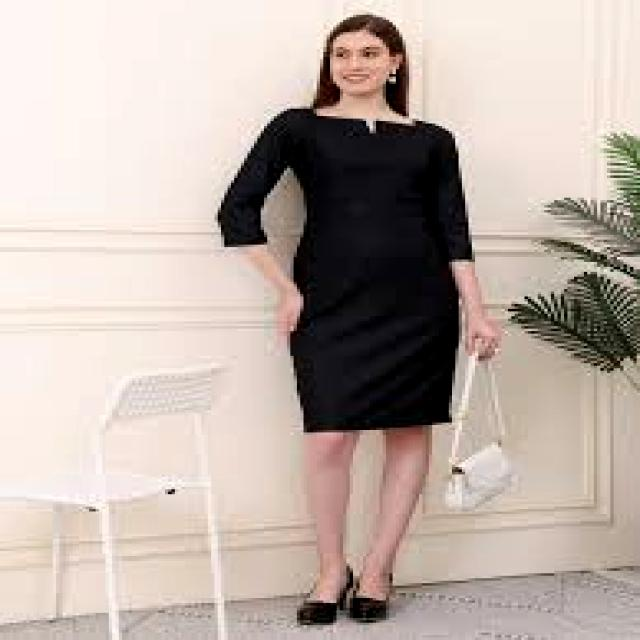dress: (218, 107, 475, 432)
